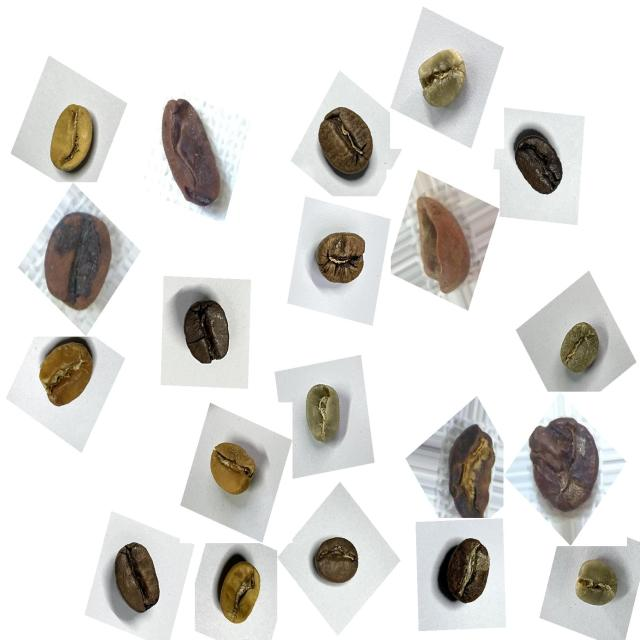bad: (32, 200, 124, 318), (520, 406, 612, 521), (153, 88, 235, 217), (407, 186, 481, 298), (438, 420, 507, 523)
dark: (173, 292, 244, 382), (428, 530, 500, 618), (508, 120, 576, 210)
green: (408, 37, 480, 124), (292, 372, 356, 456), (550, 313, 612, 385), (567, 552, 628, 622)
light: (38, 91, 108, 181), (207, 547, 270, 636), (200, 430, 266, 508)
medium: (307, 97, 385, 189), (26, 334, 104, 422), (103, 534, 172, 626), (307, 221, 377, 299), (308, 528, 370, 596)
